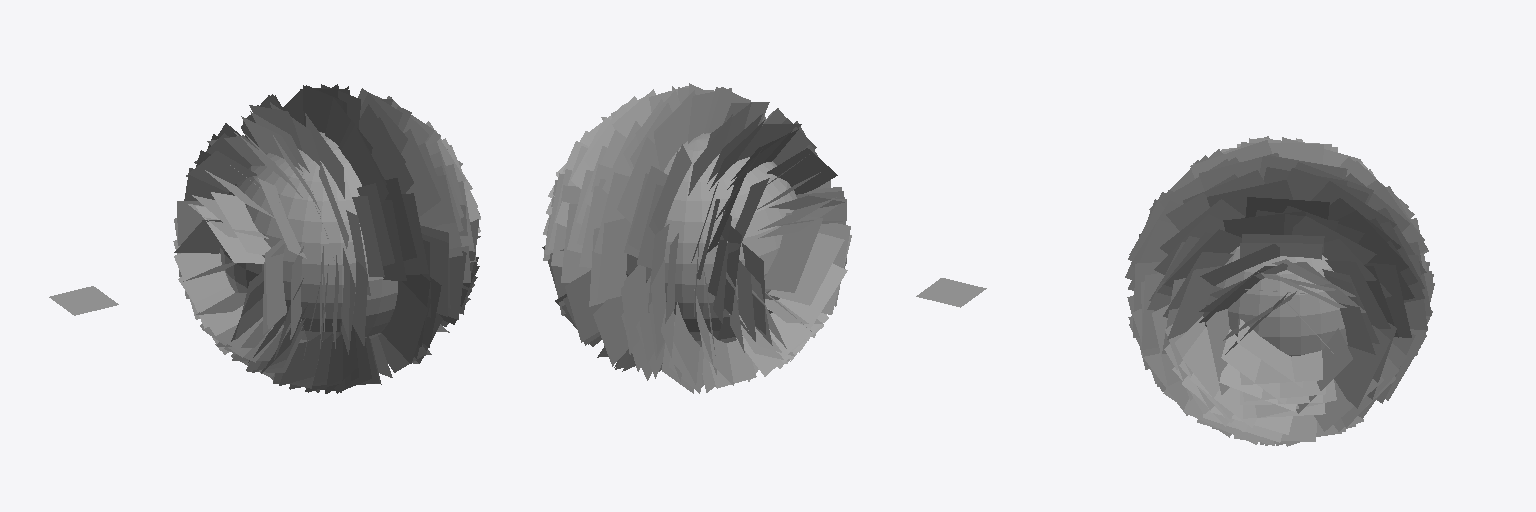
File: leavesCloud.obj
3 renders of one model, left to right at view 1: azimuth 30°, elevation 25°; view 2: azimuth 150°, elevation 25°; view 3: azimuth 270°, elevation 25°, orthographic.
Parts seen in each view (by area): view 1: impostor.001_Sphere.001, leaves.149_Plane, leaves.009_Plane, leaves.131_Plane, leaves.202_Plane, leaves.184_Plane, leaves.152_Plane, leaves.014_Plane, leaves.157_Plane, leaves.001_Plane.001, leaves.189_Plane, leaves.137_Plane (+28 smaller); view 2: impostor.001_Sphere.001, leaves.002_Plane, leaves.050_Plane, leaves.212_Plane, leaves.191_Plane, leaves.057_Plane, leaves.055_Plane, leaves.058_Plane, leaves.049_Plane, leaves.213_Plane, leaves.001_Plane.001, leaves.037_Plane (+28 smaller); view 3: impostor.001_Sphere.001, leaves.072_Plane, leaves.127_Plane, leaves.092_Plane, leaves.115_Plane, leaves.105_Plane, leaves.065_Plane, leaves.080_Plane, leaves.078_Plane, leaves.107_Plane, leaves.116_Plane, leaves.090_Plane (+28 smaller).
Boxes of the visible parts, <box> form: impostor.001_Sphere.001: <box>220,132,397,342</box>; leaves.149_Plane: <box>381,281,427,363</box>; leaves.009_Plane: <box>174,253,230,328</box>; leaves.131_Plane: <box>401,129,440,216</box>; leaves.202_Plane: <box>211,192,270,254</box>; leaves.184_Plane: <box>265,238,286,328</box>; leaves.152_Plane: <box>341,125,388,205</box>; leaves.014_Plane: <box>186,151,256,192</box>; leaves.157_Plane: <box>352,196,384,276</box>; leaves.001_Plane.001: <box>49,286,118,315</box>; leaves.189_Plane: <box>279,331,323,385</box>; leaves.137_Plane: <box>422,234,448,316</box>; impostor.001_Sphere.001: <box>626,133,796,346</box>; leaves.002_Plane: <box>764,213,822,292</box>; leaves.050_Plane: <box>597,218,631,301</box>; leaves.212_Plane: <box>768,233,844,305</box>; leaves.191_Plane: <box>767,148,837,194</box>; leaves.057_Plane: <box>593,296,628,366</box>; leaves.055_Plane: <box>654,92,694,171</box>; leaves.058_Plane: <box>565,270,603,342</box>; leaves.049_Plane: <box>617,137,659,223</box>; leaves.213_Plane: <box>767,263,847,328</box>; leaves.001_Plane.001: <box>916,278,986,307</box>; leaves.037_Plane: <box>652,144,691,230</box>; impostor.001_Sphere.001: <box>1203,246,1349,356</box>; leaves.072_Plane: <box>1334,325,1390,408</box>; leaves.127_Plane: <box>1167,265,1224,339</box>; leaves.092_Plane: <box>1240,350,1322,384</box>; leaves.115_Plane: <box>1182,327,1233,418</box>; leaves.105_Plane: <box>1237,319,1303,387</box>; leaves.065_Plane: <box>1365,263,1411,337</box>; leaves.080_Plane: <box>1324,274,1375,354</box>; leaves.078_Plane: <box>1325,260,1390,328</box>; leaves.107_Plane: <box>1221,329,1286,404</box>; leaves.116_Plane: <box>1207,180,1292,216</box>; leaves.090_Plane: <box>1296,328,1352,413</box>.
Bounding box in the file's own units: 4.24 × 2.84 × 2.84.